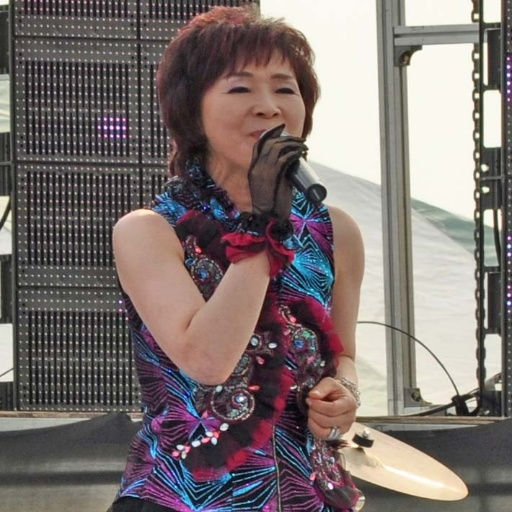hand: (245, 121, 308, 227), (312, 376, 366, 439)
